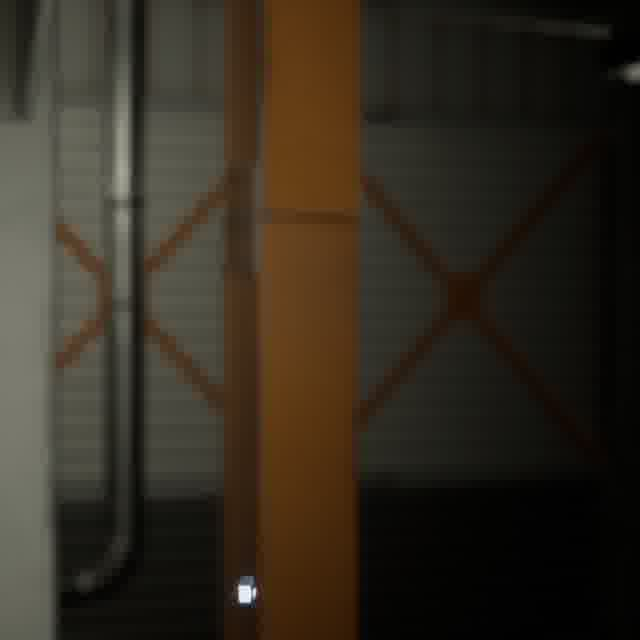nut: (233, 571, 261, 611)
